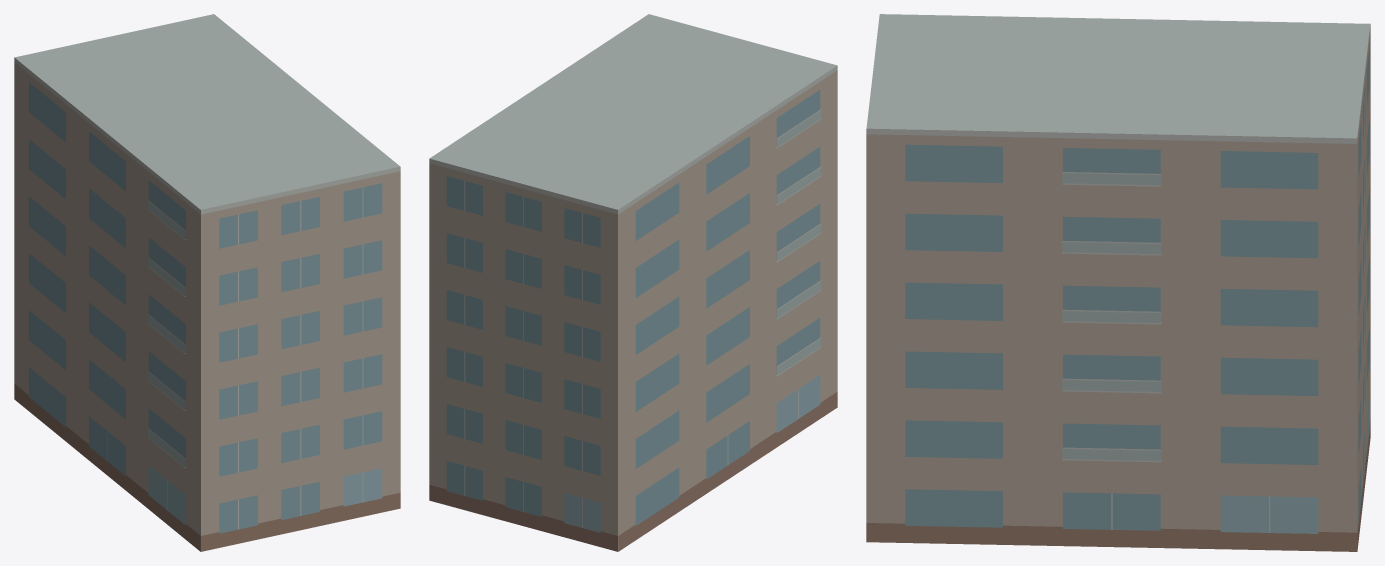
The model's file is survey-upis-32736647.glb.
3 renders of one model, left to right at view 1: azimuth 30°, elevation 25°; view 2: azimuth 150°, elevation 25°; view 3: azimuth 270°, elevation 25°, orthographic. The views are drawn at different scales.
Parts seen in each view (by area): view 1: survey-upis-32736647.tmp; view 2: survey-upis-32736647.tmp; view 3: survey-upis-32736647.tmp.
Boxes of the visible parts, x1,y1,x2,y2 form: survey-upis-32736647.tmp: [14, 14, 400, 551]; survey-upis-32736647.tmp: [429, 14, 837, 551]; survey-upis-32736647.tmp: [866, 14, 1370, 551].
Size of the model in its own units: 11.62 by 18 by 19.9.
